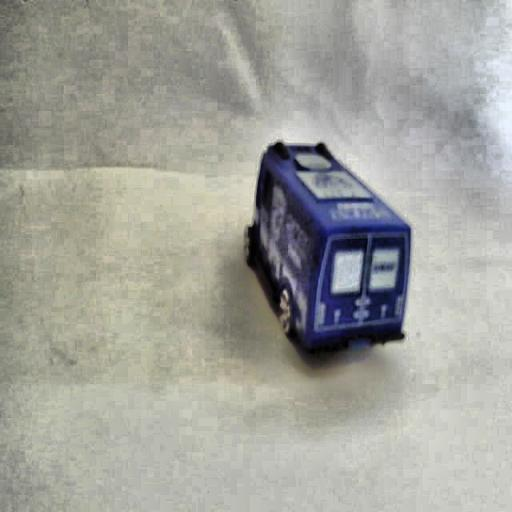police car: (244, 132, 416, 360)
